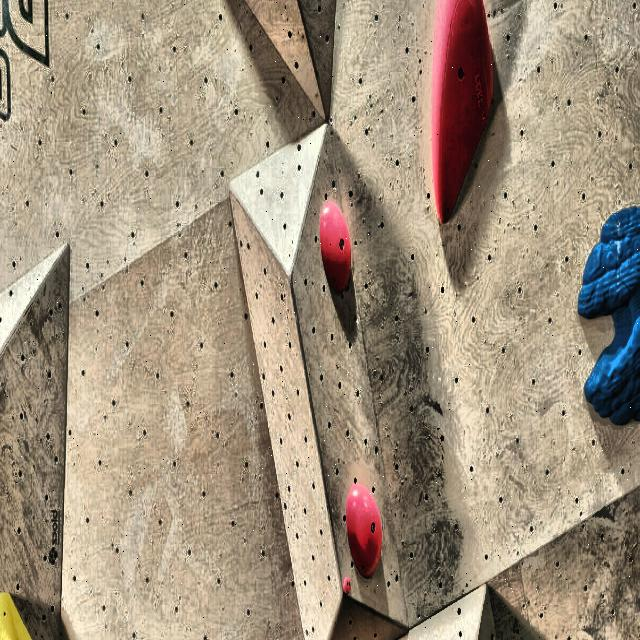Hold: (346, 485, 382, 579), (319, 201, 352, 295), (0, 592, 33, 640), (343, 577, 351, 594)
Macro: (431, 0, 493, 222), (579, 208, 640, 424)
Volume: (230, 126, 408, 640), (0, 248, 69, 640), (250, 0, 333, 119)
